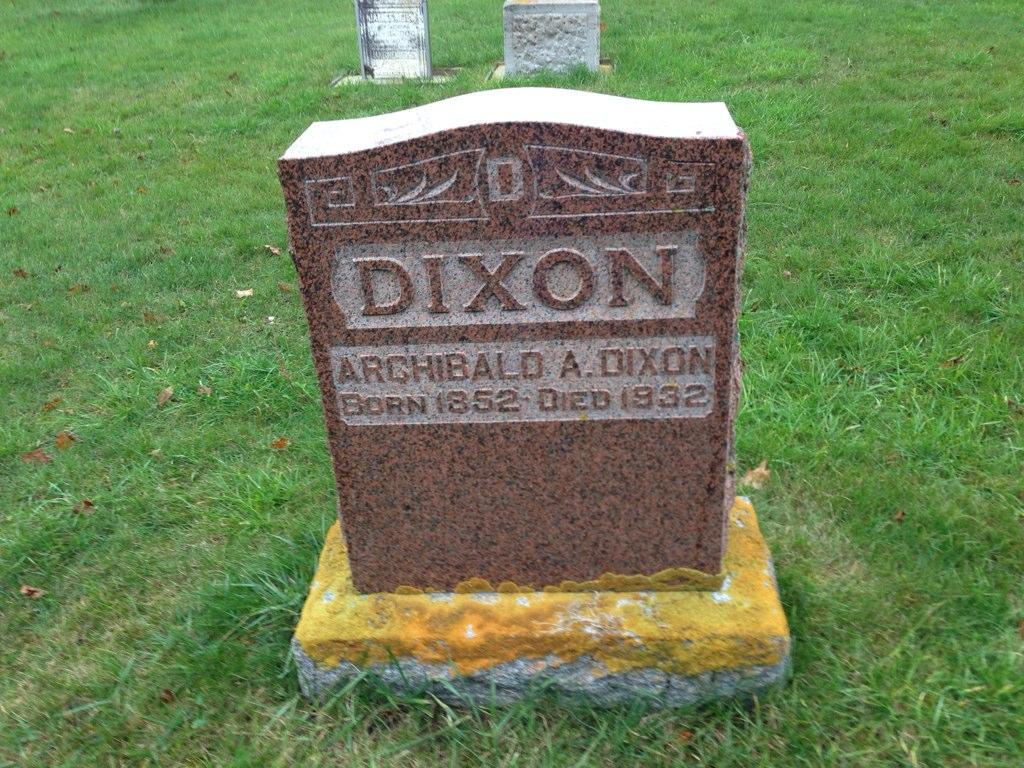upright: (275, 86, 793, 699)
